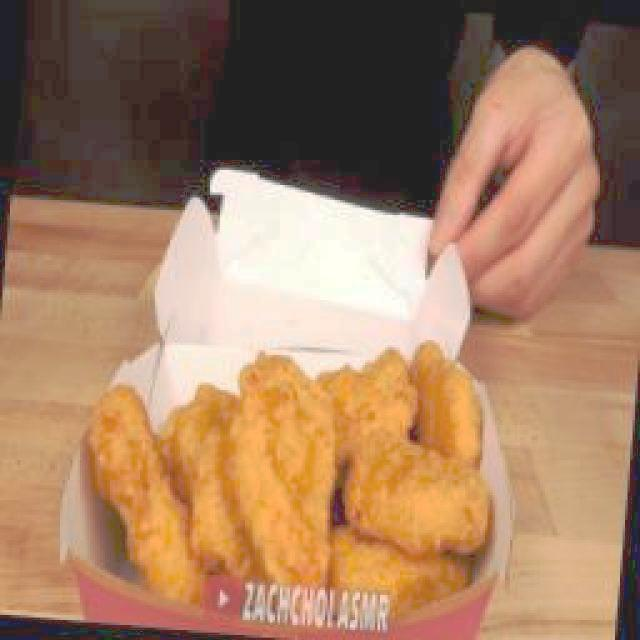chicken_nuggets: (72, 344, 517, 613), (238, 347, 339, 614), (84, 384, 205, 601), (340, 436, 489, 556), (158, 384, 245, 568), (328, 519, 470, 603), (316, 347, 414, 450), (408, 342, 483, 473)
